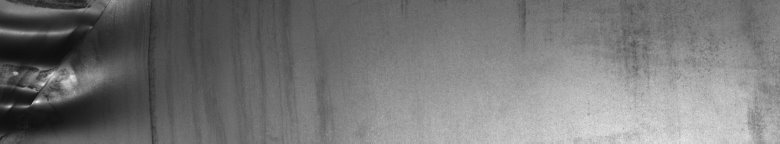ke: (4, 4, 160, 136)
